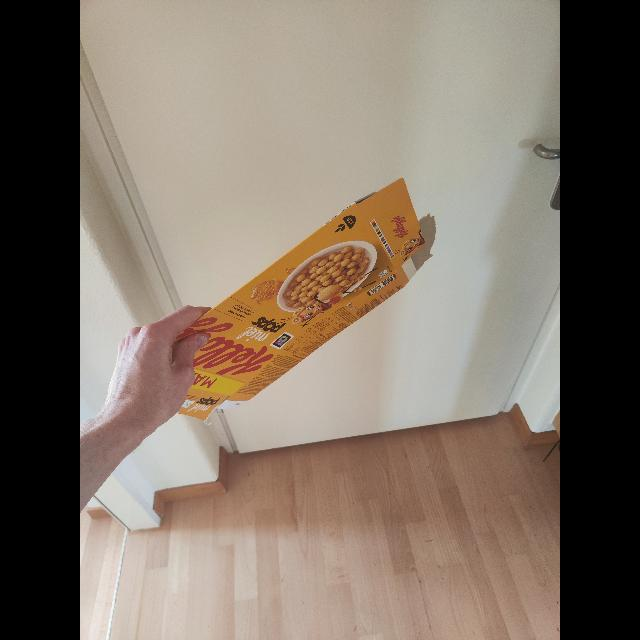Cardboard: (170, 176, 438, 414)
